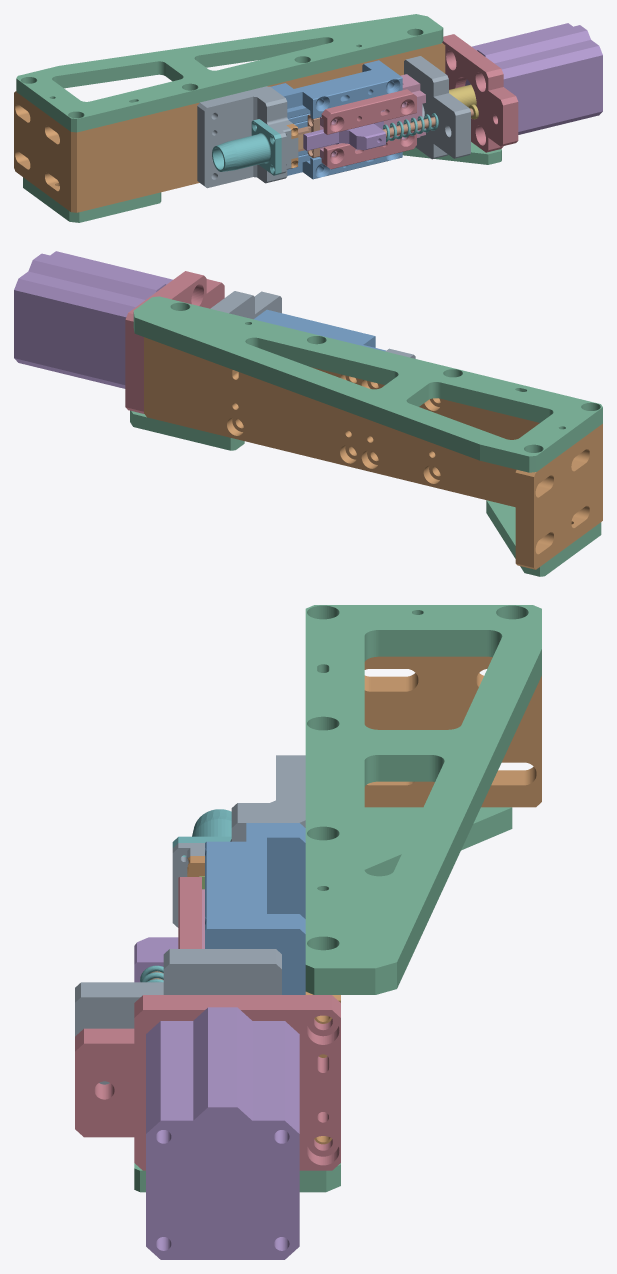
3 views of the same model, one above another, from view 1: azimuth 30°, elevation 25°; view 2: azimuth 150°, elevation 25°; view 3: azimuth 270°, elevation 25° (orthographic). The views are drawn at different scales.
Visible parts, largest first — view 1: part_15_18_0, part_14_17_0, part_05_8_0, part_09_12_0, part_16_19_0, part_21_24_0, part_19_22_0, part_04_6_0, part_01_0_0, part_13_16_0, part_03_4_0, part_04_7_0 (+8 smaller); view 2: part_14_17_0, part_15_18_0, part_05_8_0, part_16_19_0, part_03_4_0, part_03_5_0, part_01_0_0, part_21_24_0; view 3: part_15_18_0, part_05_8_0, part_16_19_0, part_14_17_0, part_21_24_0, part_13_16_0, part_01_0_0, part_09_12_0, part_03_4_0, part_04_6_0, part_19_22_0, part_03_5_0 (+1 smaller).
Part boxes in pixels (x1,y1,x2,y2): part_15_18_0: (16,14,443,132); part_14_17_0: (14,43,445,212); part_05_8_0: (465,23,602,134); part_09_12_0: (197,86,298,188); part_16_19_0: (442,34,518,152); part_21_24_0: (404,56,470,159); part_19_22_0: (212,119,281,175); part_04_6_0: (321,89,416,134); part_01_0_0: (302,70,402,118); part_13_16_0: (270,60,391,175); part_03_4_0: (23,177,161,222); part_04_7_0: (321,131,416,169); part_14_17_0: (144,337,602,569); part_15_18_0: (133,296,602,472); part_05_8_0: (14,251,172,388); part_16_19_0: (125,271,224,413); part_03_4_0: (486,500,601,576); part_03_5_0: (130,410,244,450); part_01_0_0: (255,309,375,347); part_21_24_0: (210,291,281,319); part_15_18_0: (305,605,541,994); part_05_8_0: (146,1007,299,1259); part_16_19_0: (75,995,340,1170); part_14_17_0: (305,656,541,1144); part_21_24_0: (75,949,281,1084); part_13_16_0: (246,823,305,994); part_01_0_0: (205,841,246,948); part_09_12_0: (172,755,305,927); part_03_4_0: (364,807,512,876); part_04_6_0: (178,877,201,948); part_19_22_0: (172,809,231,856); part_03_5_0: (134,1163,340,1192).
Size of the model in its own units: 383 by 78 by 158.
